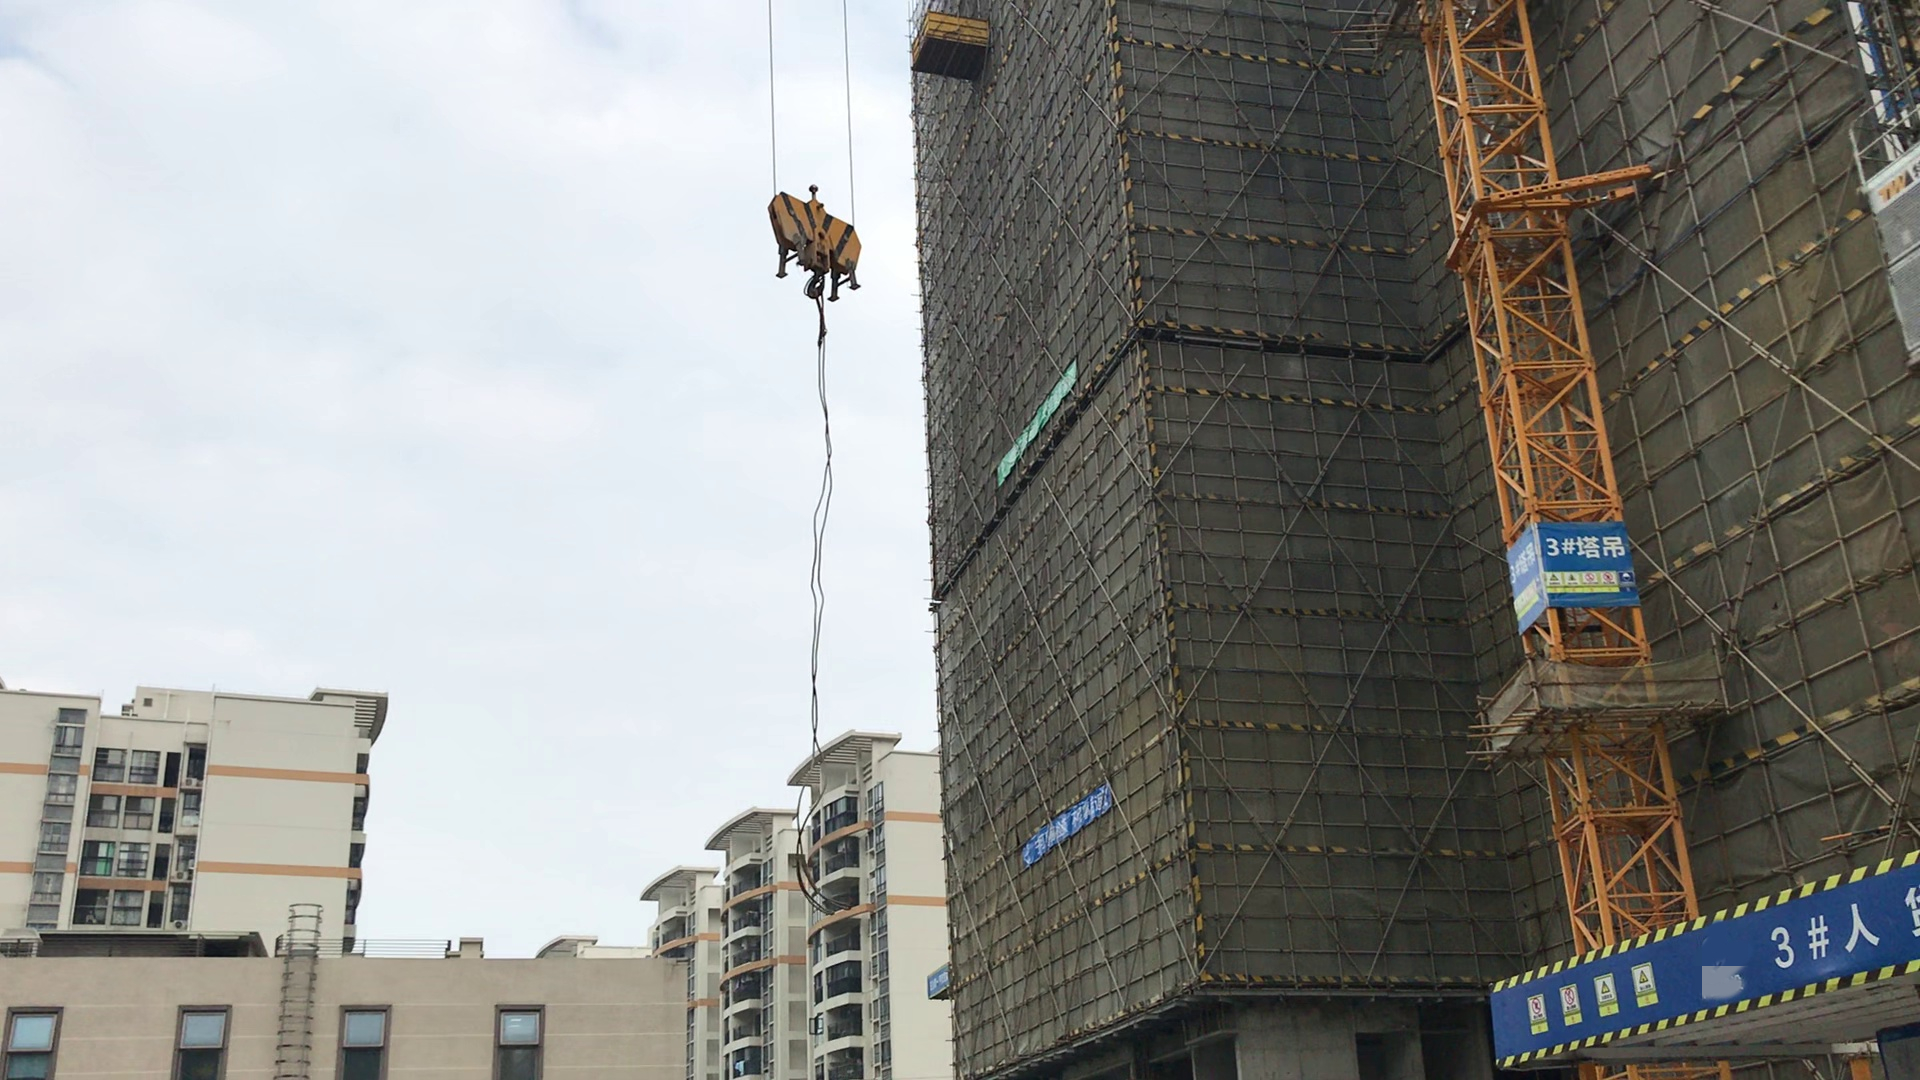hook: (740, 164, 891, 351)
slogan: (1453, 837, 1920, 1080), (940, 353, 1098, 491), (1487, 514, 1646, 630), (1013, 765, 1126, 884), (916, 959, 961, 1004)
